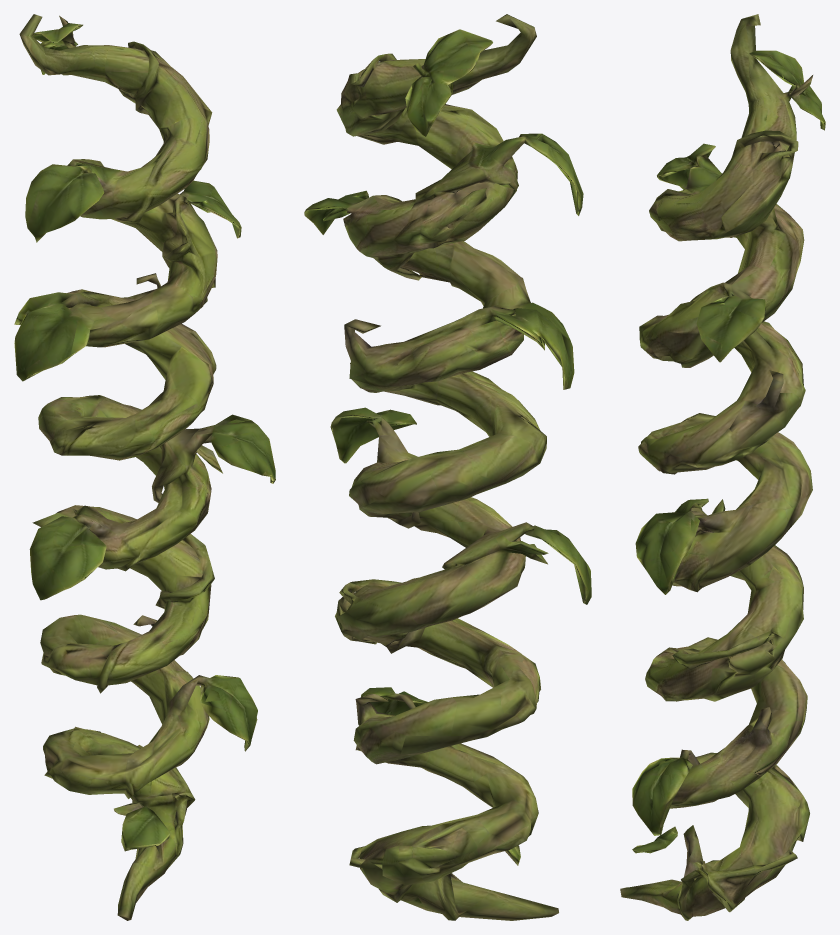
File: climbing-vine.glb
The picture shows the model from 3 angles, left to right: view 1: azimuth 30°, elevation 25°; view 2: azimuth 150°, elevation 25°; view 3: azimuth 270°, elevation 25°; orthographic projection. The views are drawn at different scales.
Bounding box in the file's own units: 0.538 × 1.9 × 0.4061.
Materials: 1 (1 with a texture image).
